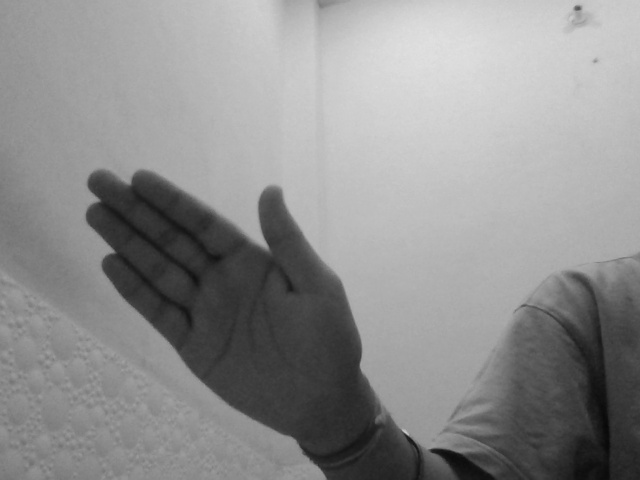Hello: (79, 166, 366, 438)
